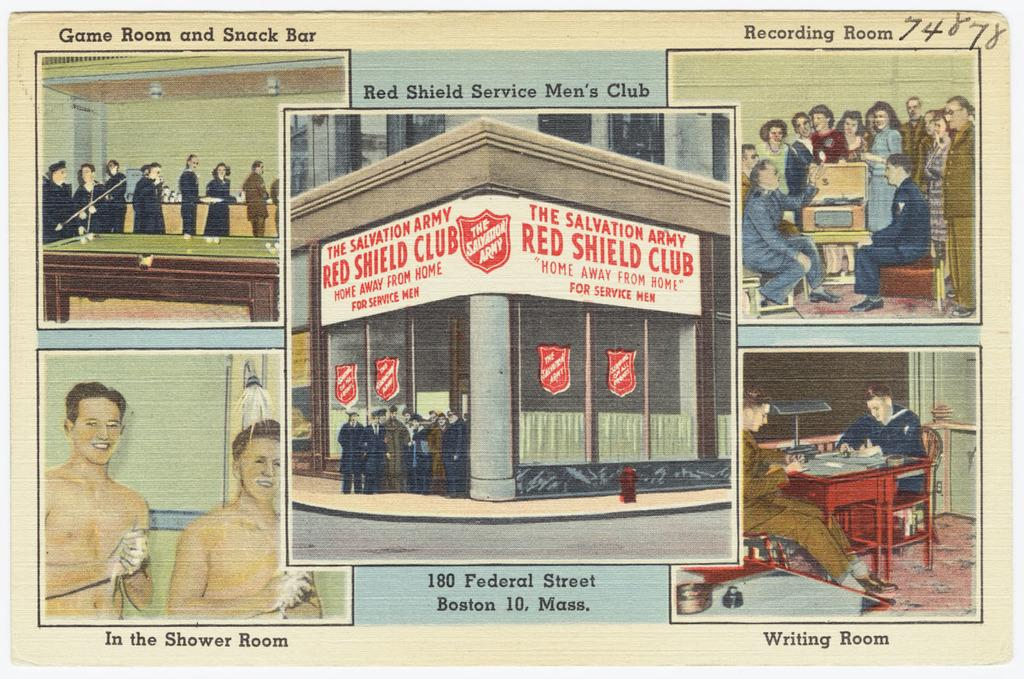Sem Máscara: (71, 395, 117, 459), (237, 433, 280, 498)
